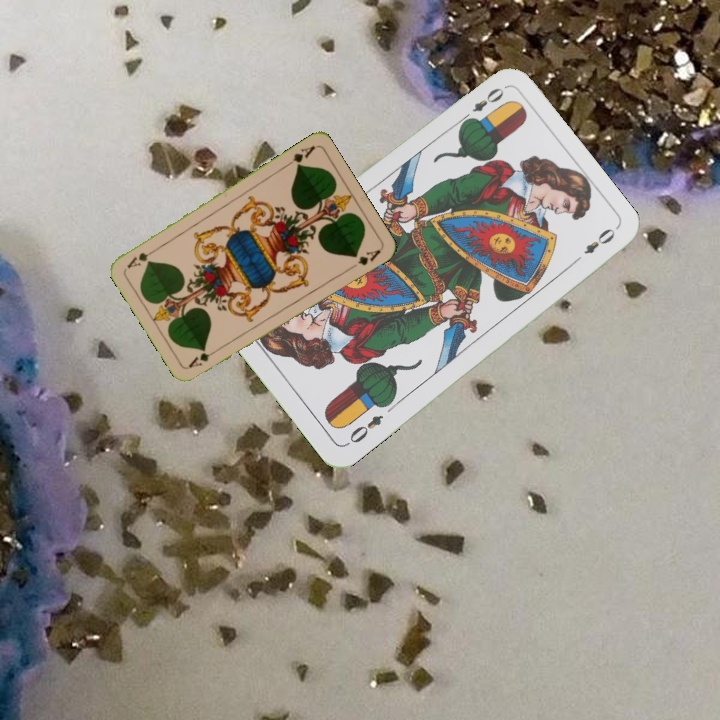EO: (456, 83, 507, 126), (342, 410, 386, 449)
GA: (281, 141, 318, 170), (184, 344, 222, 370)
